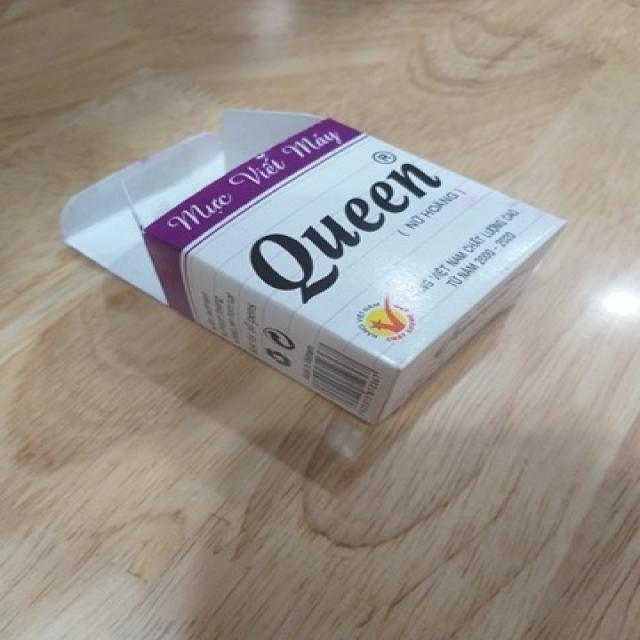PaperCardboard: (71, 104, 585, 418)
